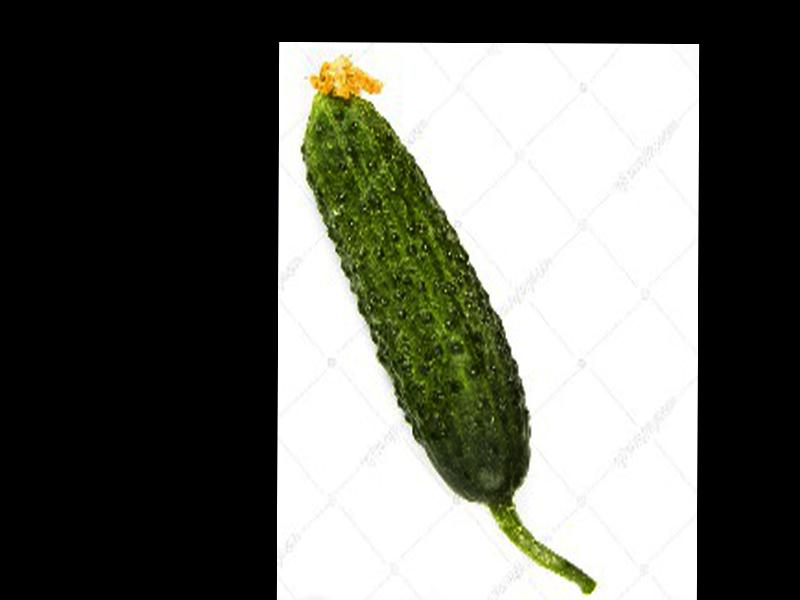Cucumber: (298, 54, 597, 593)
